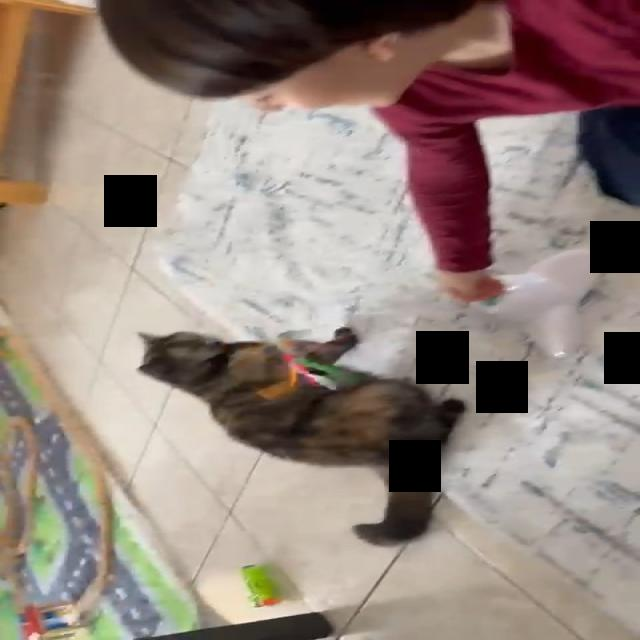authorized: (134, 326, 467, 546)
